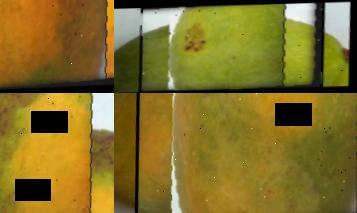PartiallyRipe: (127, 93, 357, 213)
Ripe: (0, 93, 114, 213), (0, 0, 114, 93)
Unripe: (135, 1, 329, 93)
